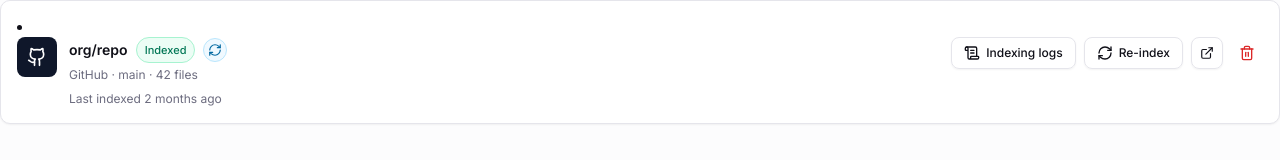
it: RepoCard › shows reindexInProgress alert when API returns 409
The width and height of the screenshot is (1280, 160).
Click the button "Re-index" at point(1133, 53), box [1084,37,1183,69]
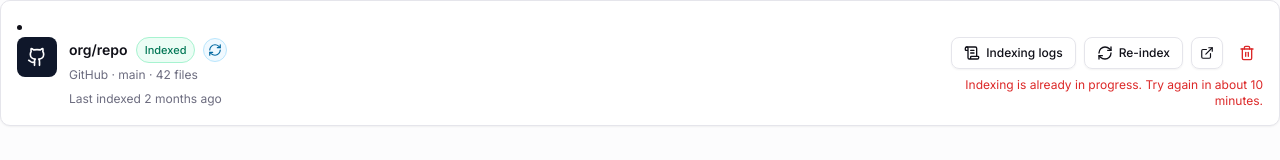
Expected: the message shows "already in progress", [965,77,1263,108]
